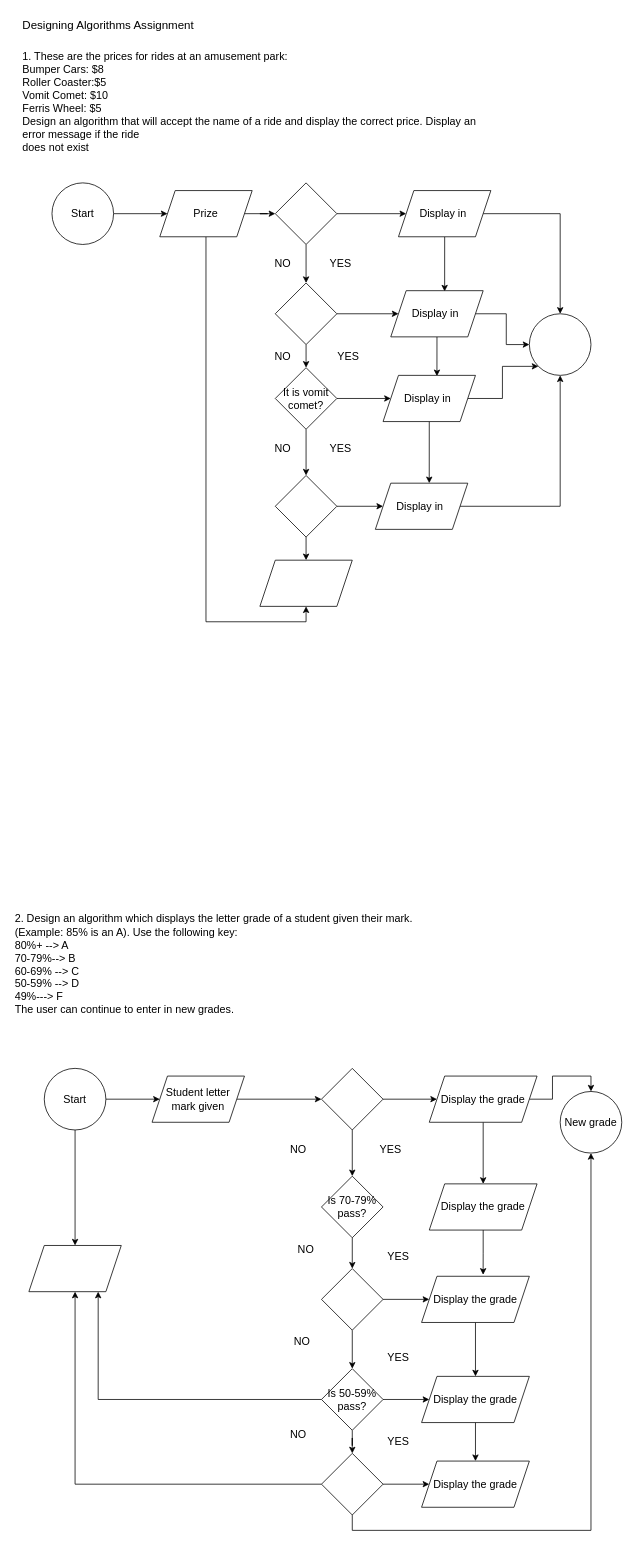
Image size: 635x1550. Some labels were removed from this diagram. Each missing label, with the box of its shape:
Exit: (529, 313, 591, 375)
Fail: (28, 1245, 121, 1292)
if none exit: (259, 559, 352, 606)
Is 49% pass?: (321, 1453, 383, 1515)
Is 60-69% pass?: (321, 1268, 383, 1330)
Is 80% pass?: (321, 1068, 383, 1130)
It is ferris wheel: (275, 475, 337, 537)
It is roller coaster?: (275, 282, 337, 345)
Its bumper cars?: (275, 182, 337, 244)
